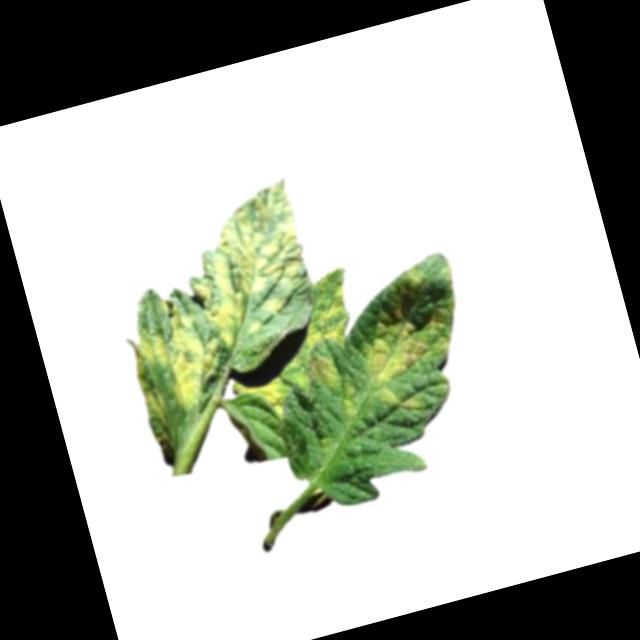Leaf_Mold: (180, 176, 326, 351), (350, 286, 467, 418), (121, 296, 229, 420), (295, 278, 356, 348), (235, 375, 291, 430), (300, 346, 342, 398)
